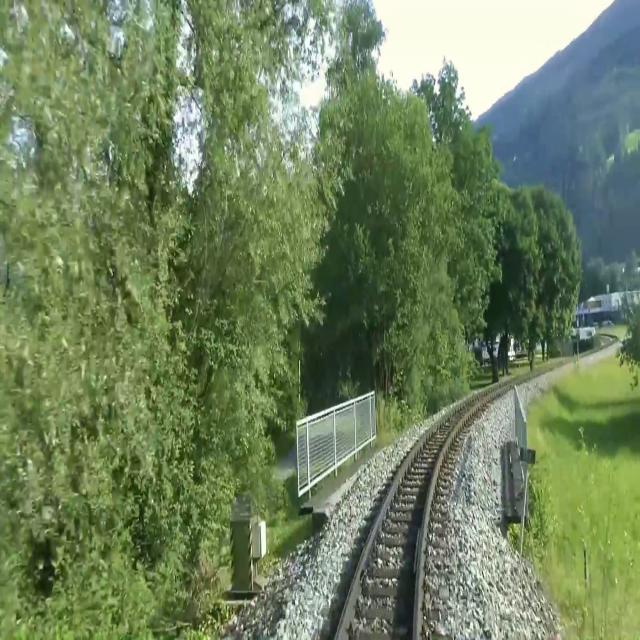rail-track: (338, 395, 480, 639), (578, 334, 615, 353), (563, 349, 577, 359)
